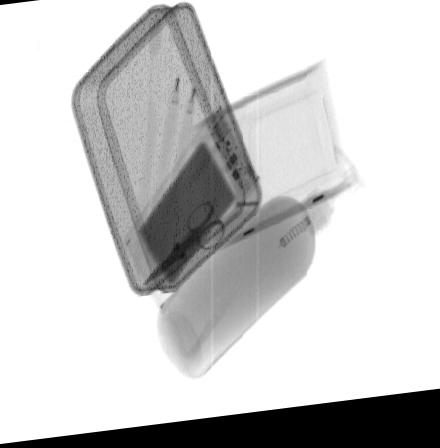Powerbank: (119, 105, 261, 316)
Scissors: (141, 205, 227, 294)
